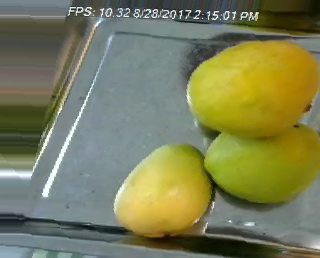Mango: (186, 38, 319, 137), (106, 141, 214, 240), (203, 124, 320, 208)
